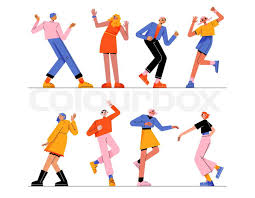person1: (28, 102, 89, 198)
person2: (128, 99, 182, 193)
